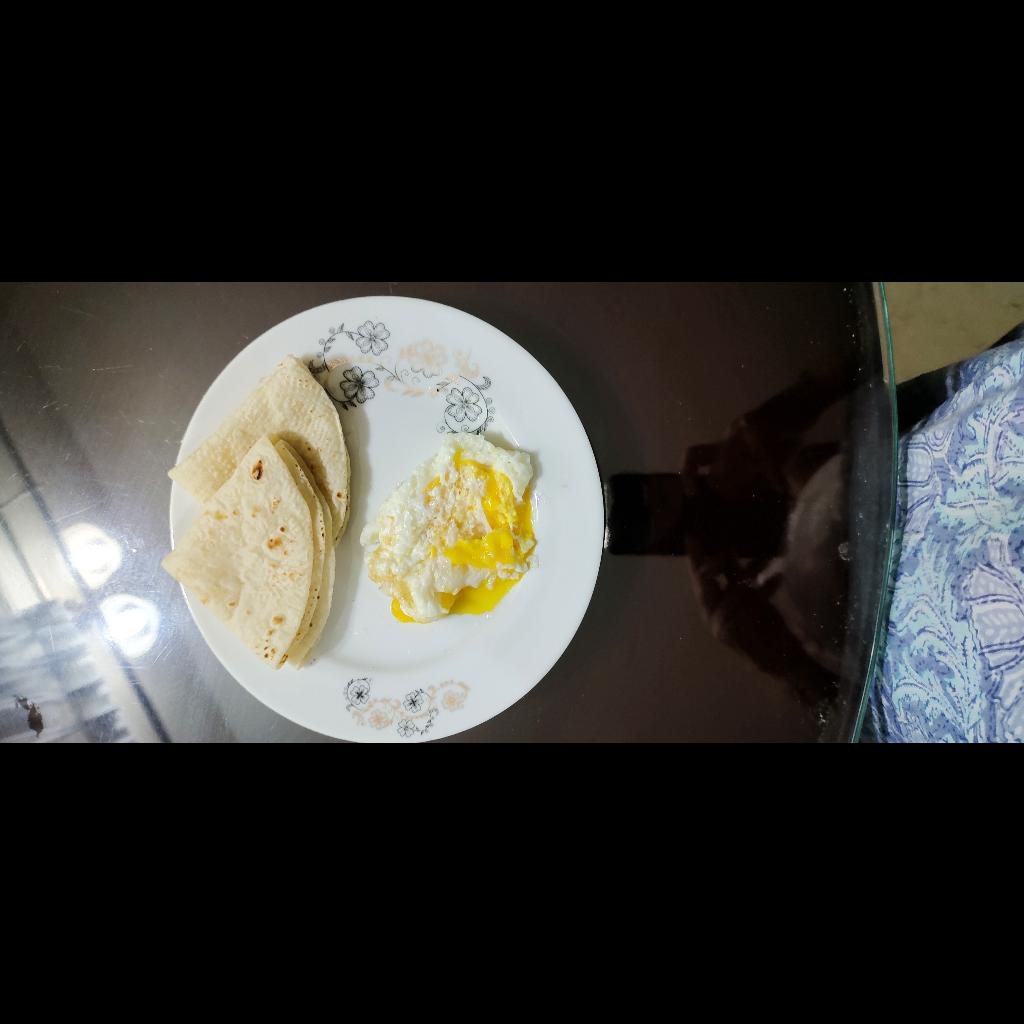egg-poached: (120, 642, 314, 824)
ruti: (73, 443, 396, 639)
